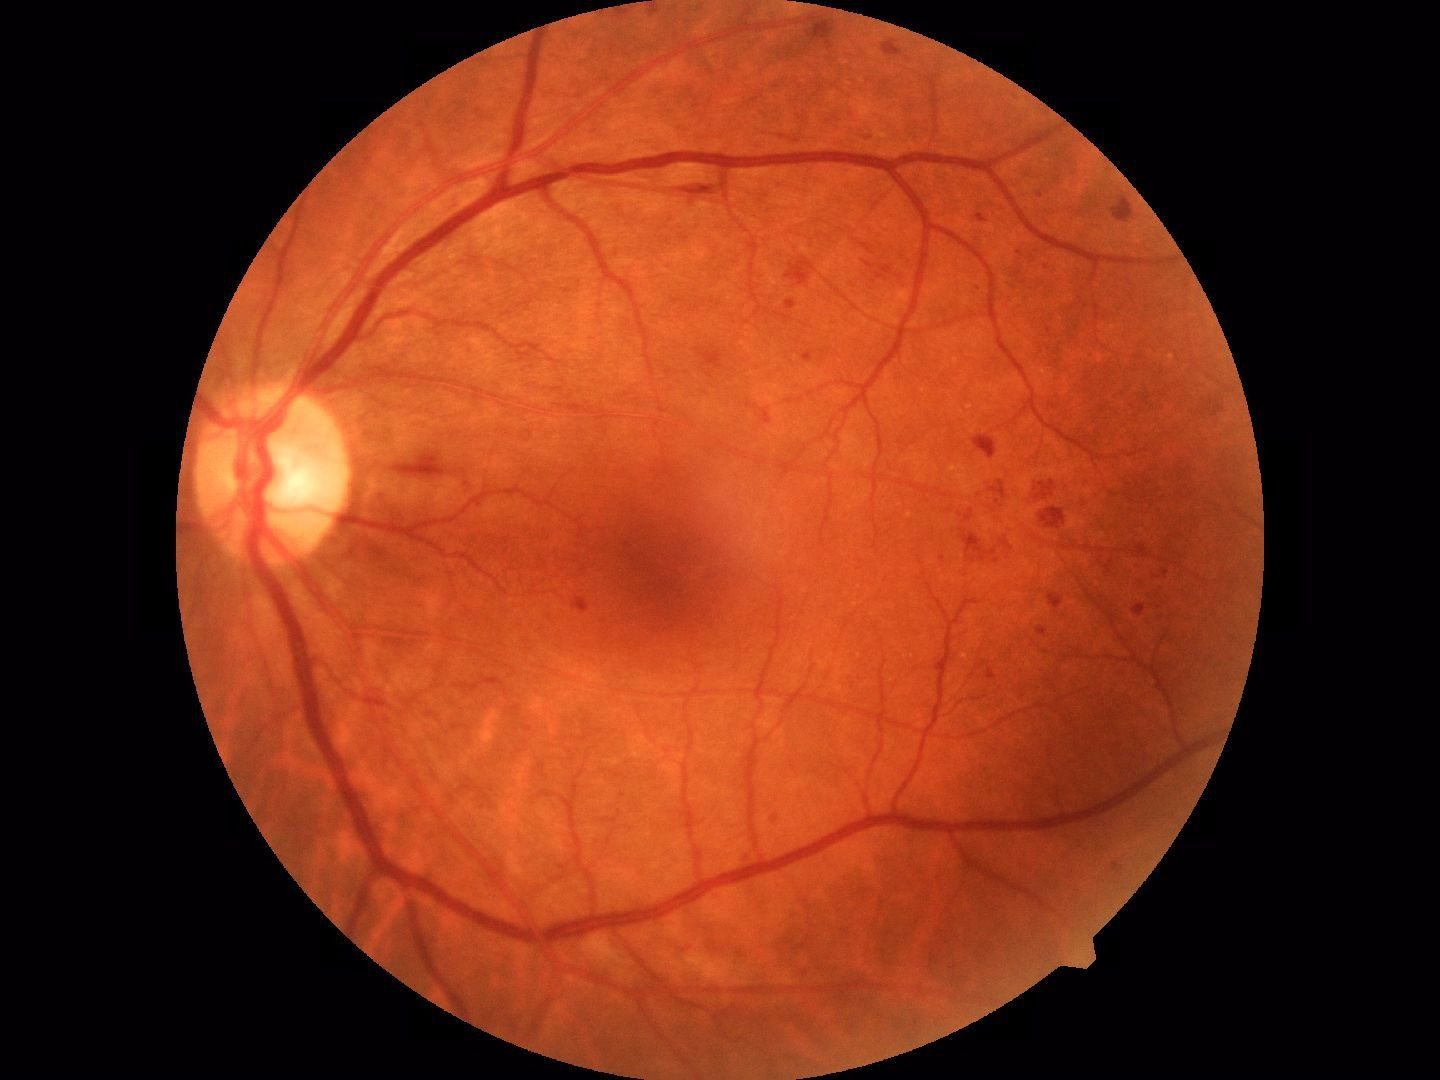Hemorrhages: (571, 449, 760, 663)
Microaneurysms: (979, 422, 1106, 560)
Optic-Disc: (185, 383, 353, 569)
Venules: (305, 610, 1113, 913), (345, 130, 1044, 275)
